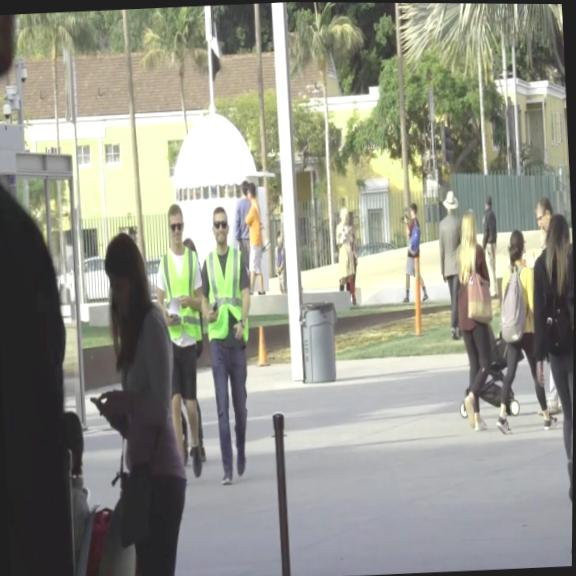safety_vest: (158, 241, 204, 342), (203, 243, 249, 342)
